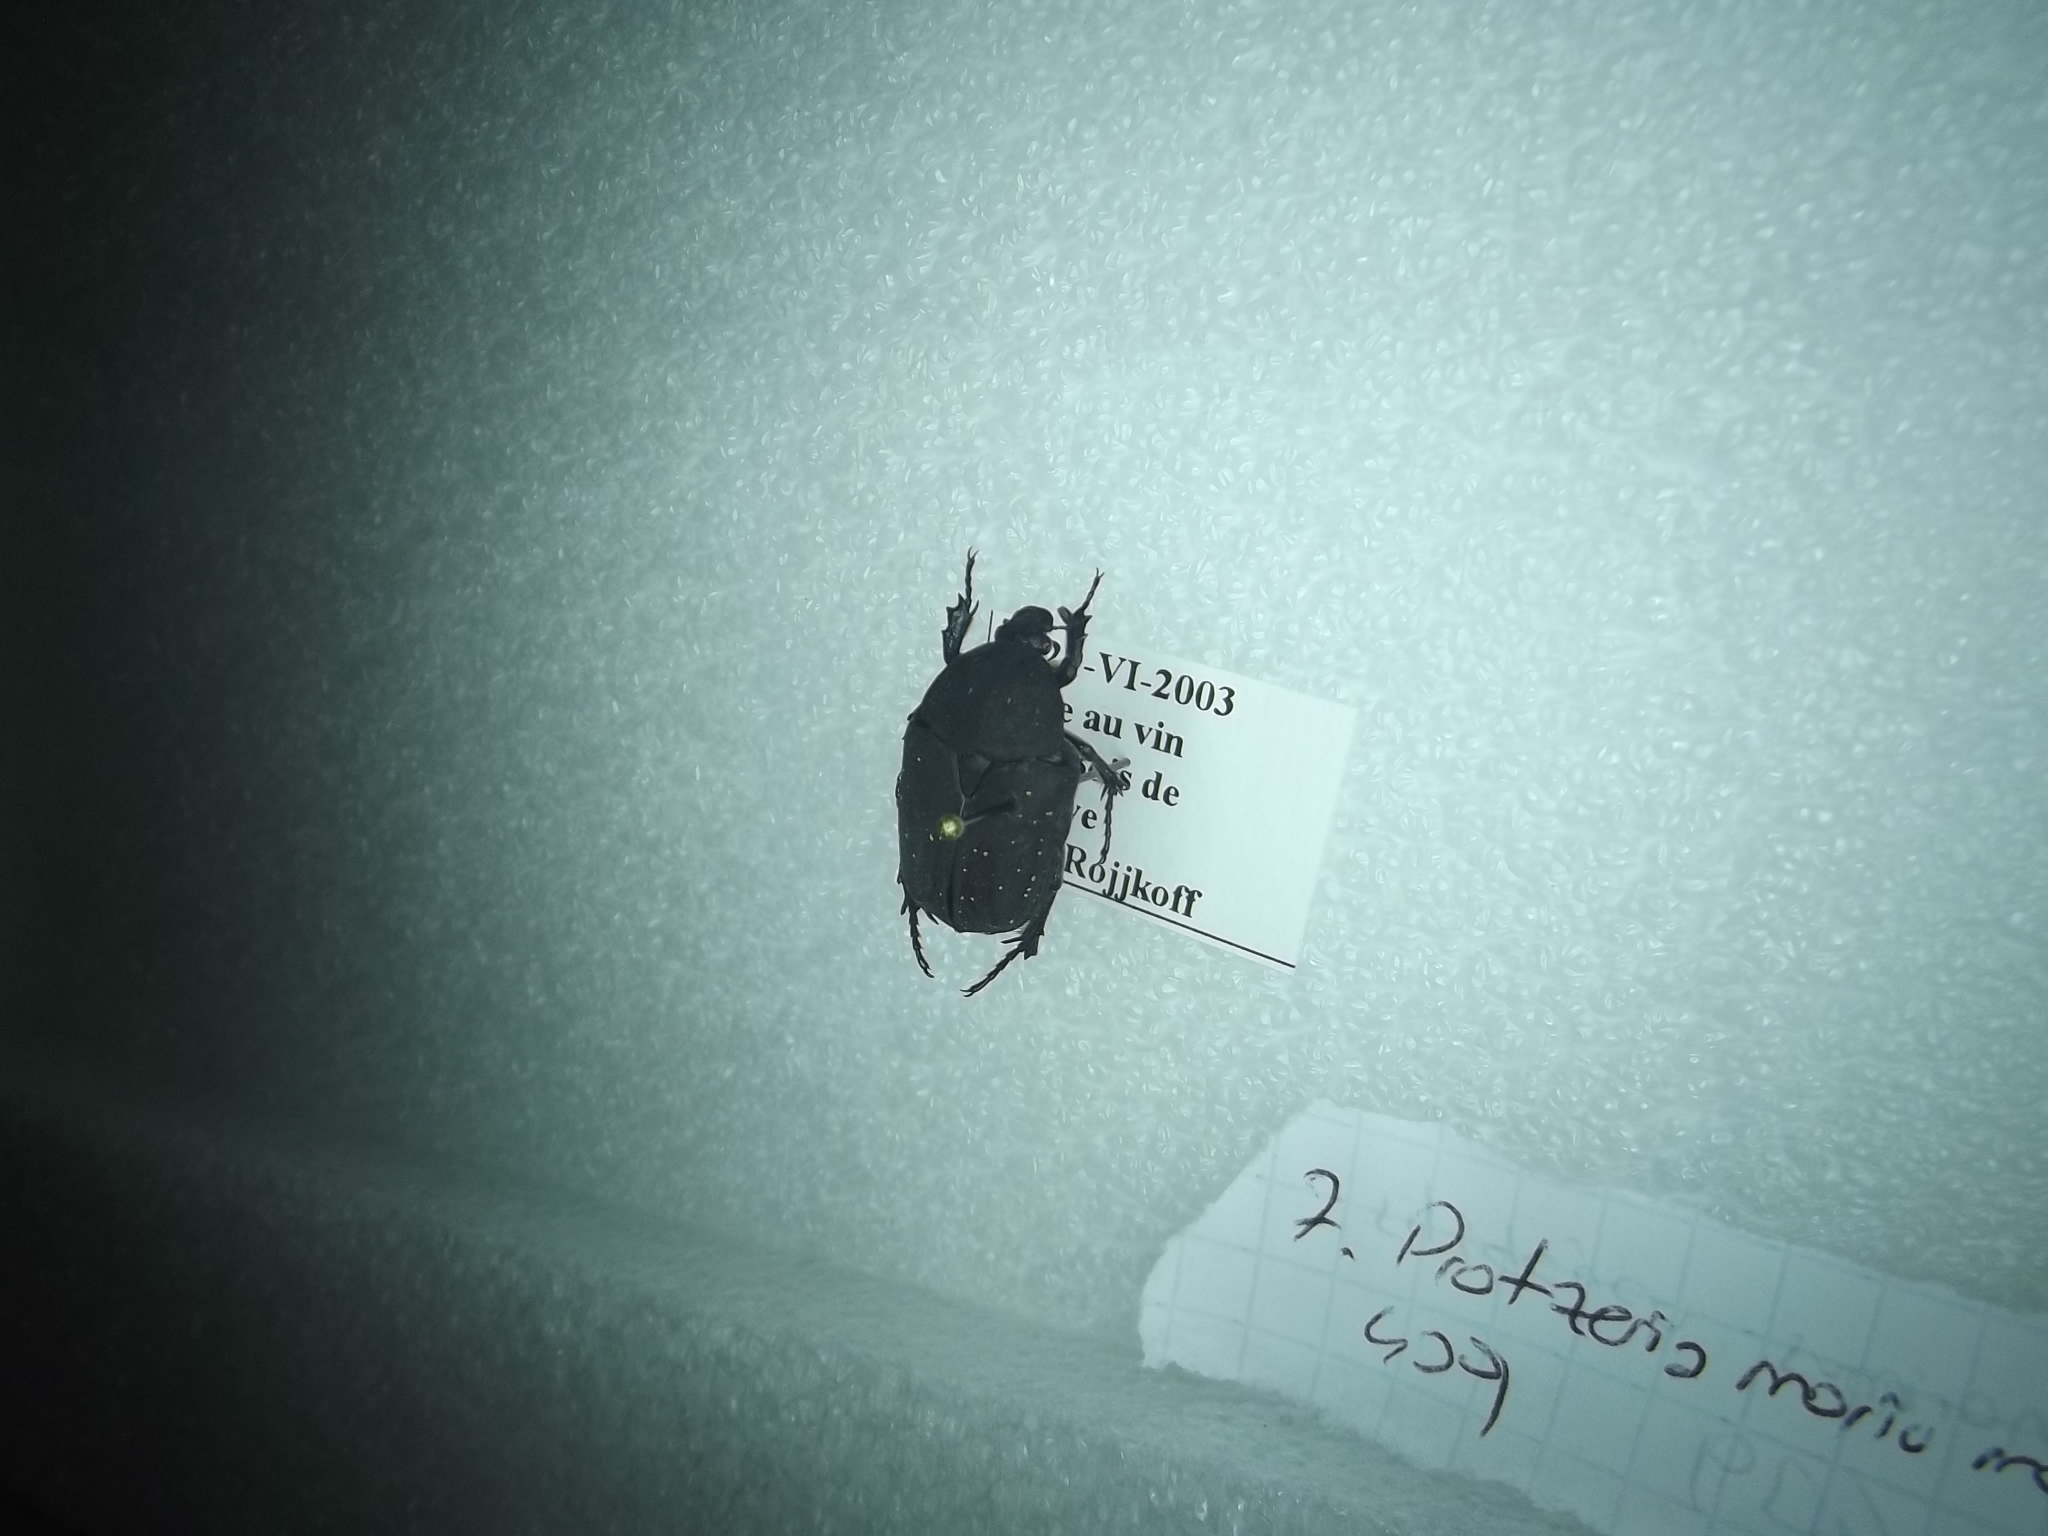Protaetia_morio_morio: (842, 552, 1134, 991)
